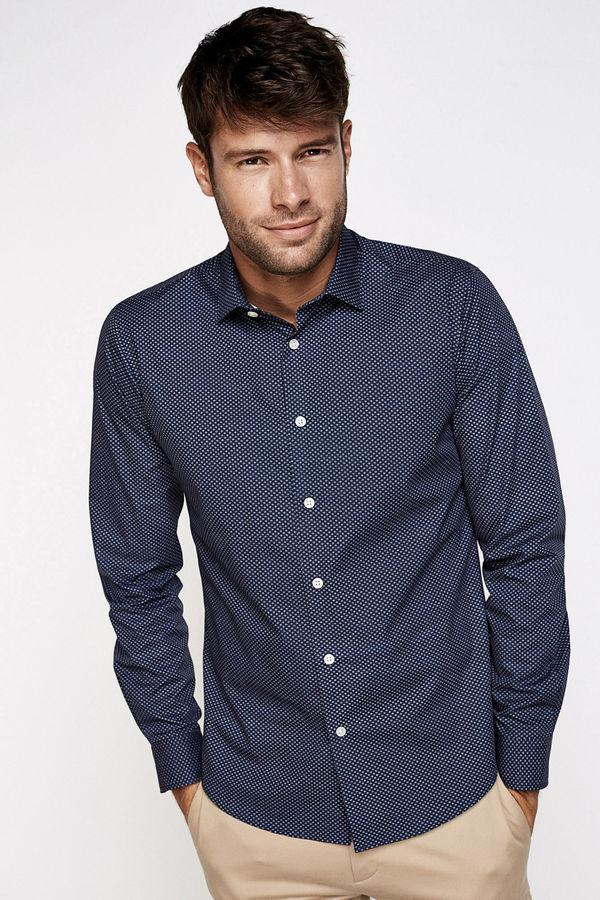teeshirt: (66, 256, 567, 838)
